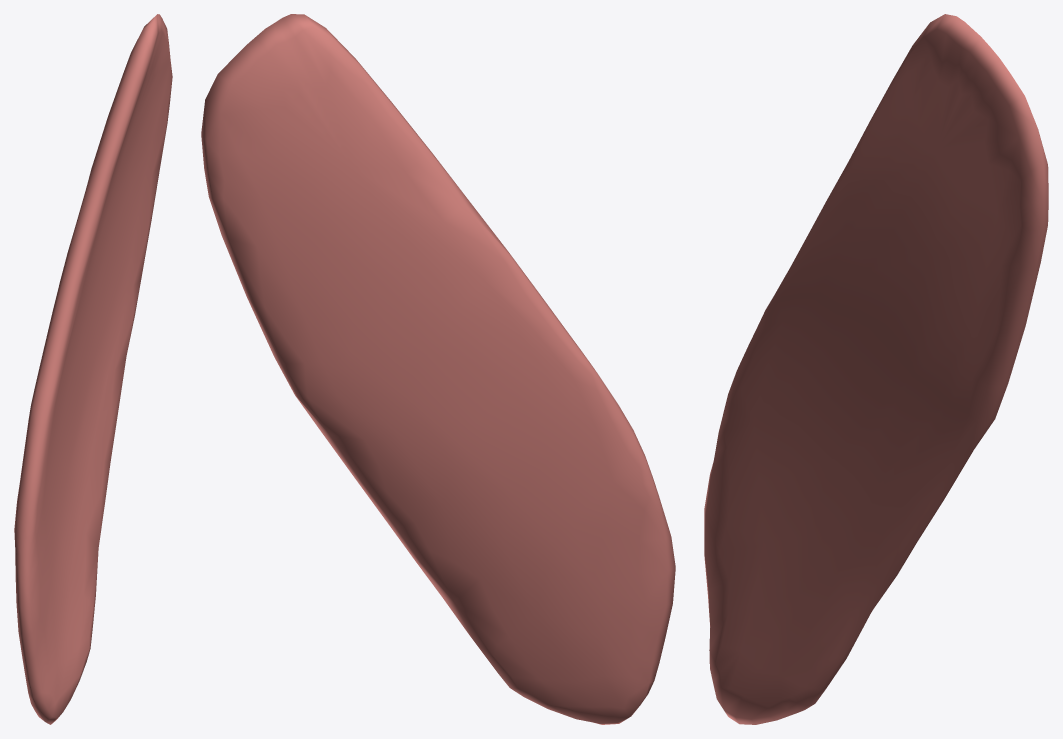
3 views of the same model, side by side, from view 1: azimuth 30°, elevation 25°; view 2: azimuth 150°, elevation 25°; view 3: azimuth 270°, elevation 25° (orthographic). The views are drawn at different scales.
Parts seen in each view (by area): view 1: ZA_911ceaa21a38e594; view 2: ZA_911ceaa21a38e594; view 3: ZA_911ceaa21a38e594.
Part boxes in pixels (box(x1,y1,x2,y2)): ZA_911ceaa21a38e594: box(14, 14, 172, 724); ZA_911ceaa21a38e594: box(201, 14, 675, 724); ZA_911ceaa21a38e594: box(704, 14, 1048, 724).
Size of the model in its own units: 0.00689 by 0.0147 by 0.00555.
